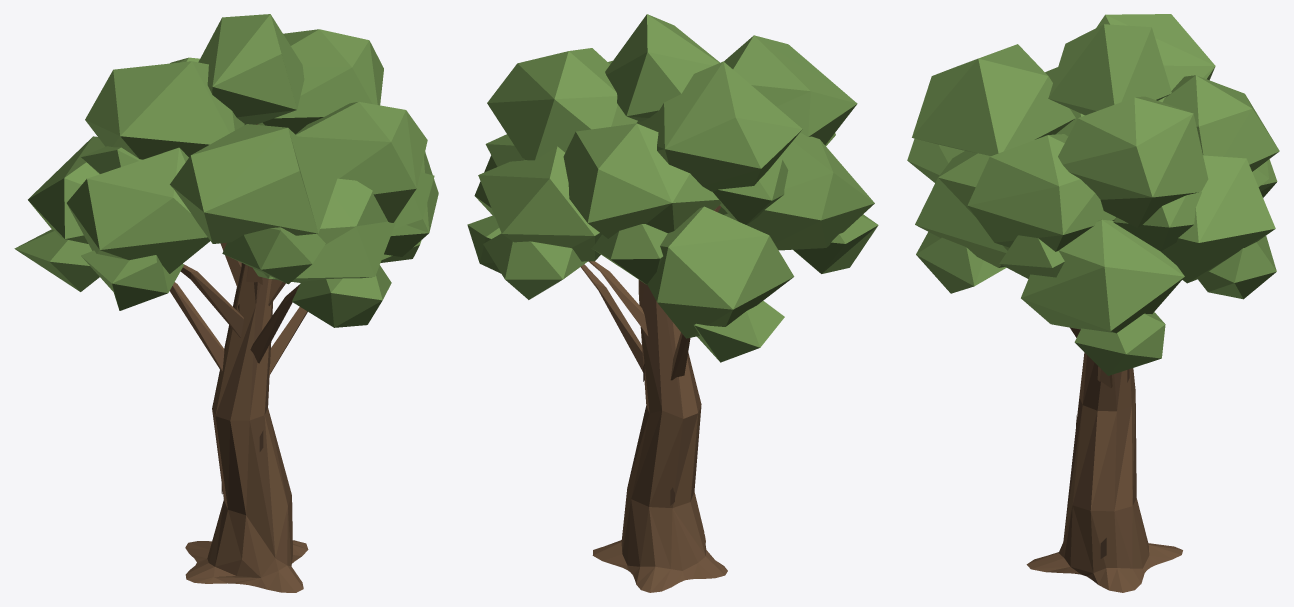
The model's file is oak_spring.glb.
3 views of the same model, side by side, from view 1: azimuth 30°, elevation 25°; view 2: azimuth 150°, elevation 25°; view 3: azimuth 270°, elevation 25° (orthographic).
Parts seen in each view (by area): view 1: leaves, branches; view 2: leaves, branches; view 3: leaves, branches.
Part boxes in pixels (<box>): leaves: <box>14,14,438,327</box>; branches: <box>170,124,308,592</box>; leaves: <box>467,14,878,362</box>; branches: <box>581,205,727,592</box>; leaves: <box>907,14,1279,375</box>; branches: <box>1026,327,1182,592</box>.
Size of the model in its own units: 3.42 by 4.8 by 2.97.
